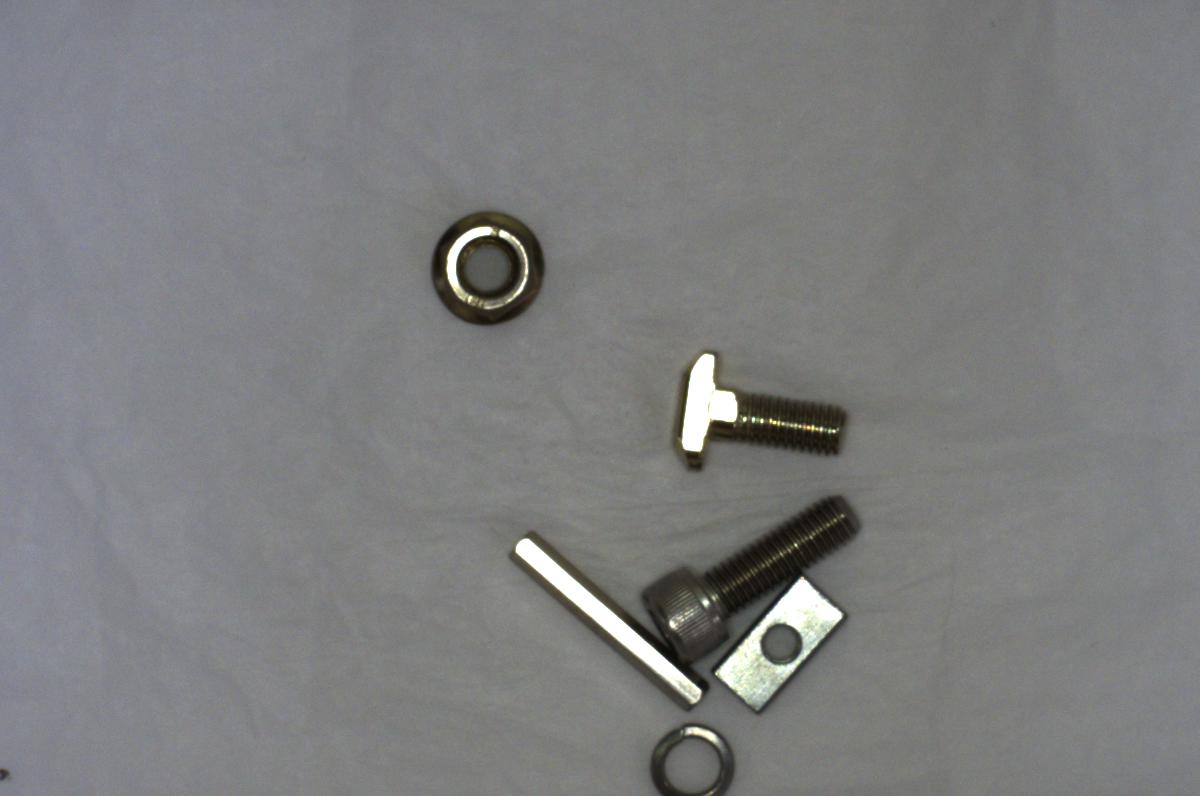Double hexagonal column: (496, 522, 706, 709)
Flange nut: (428, 205, 551, 331)
Hexagon screw: (651, 489, 866, 660)
Rectangular nut: (714, 574, 842, 713)
Spring washer: (647, 721, 734, 795)
T-shaped screw: (661, 342, 853, 477)
